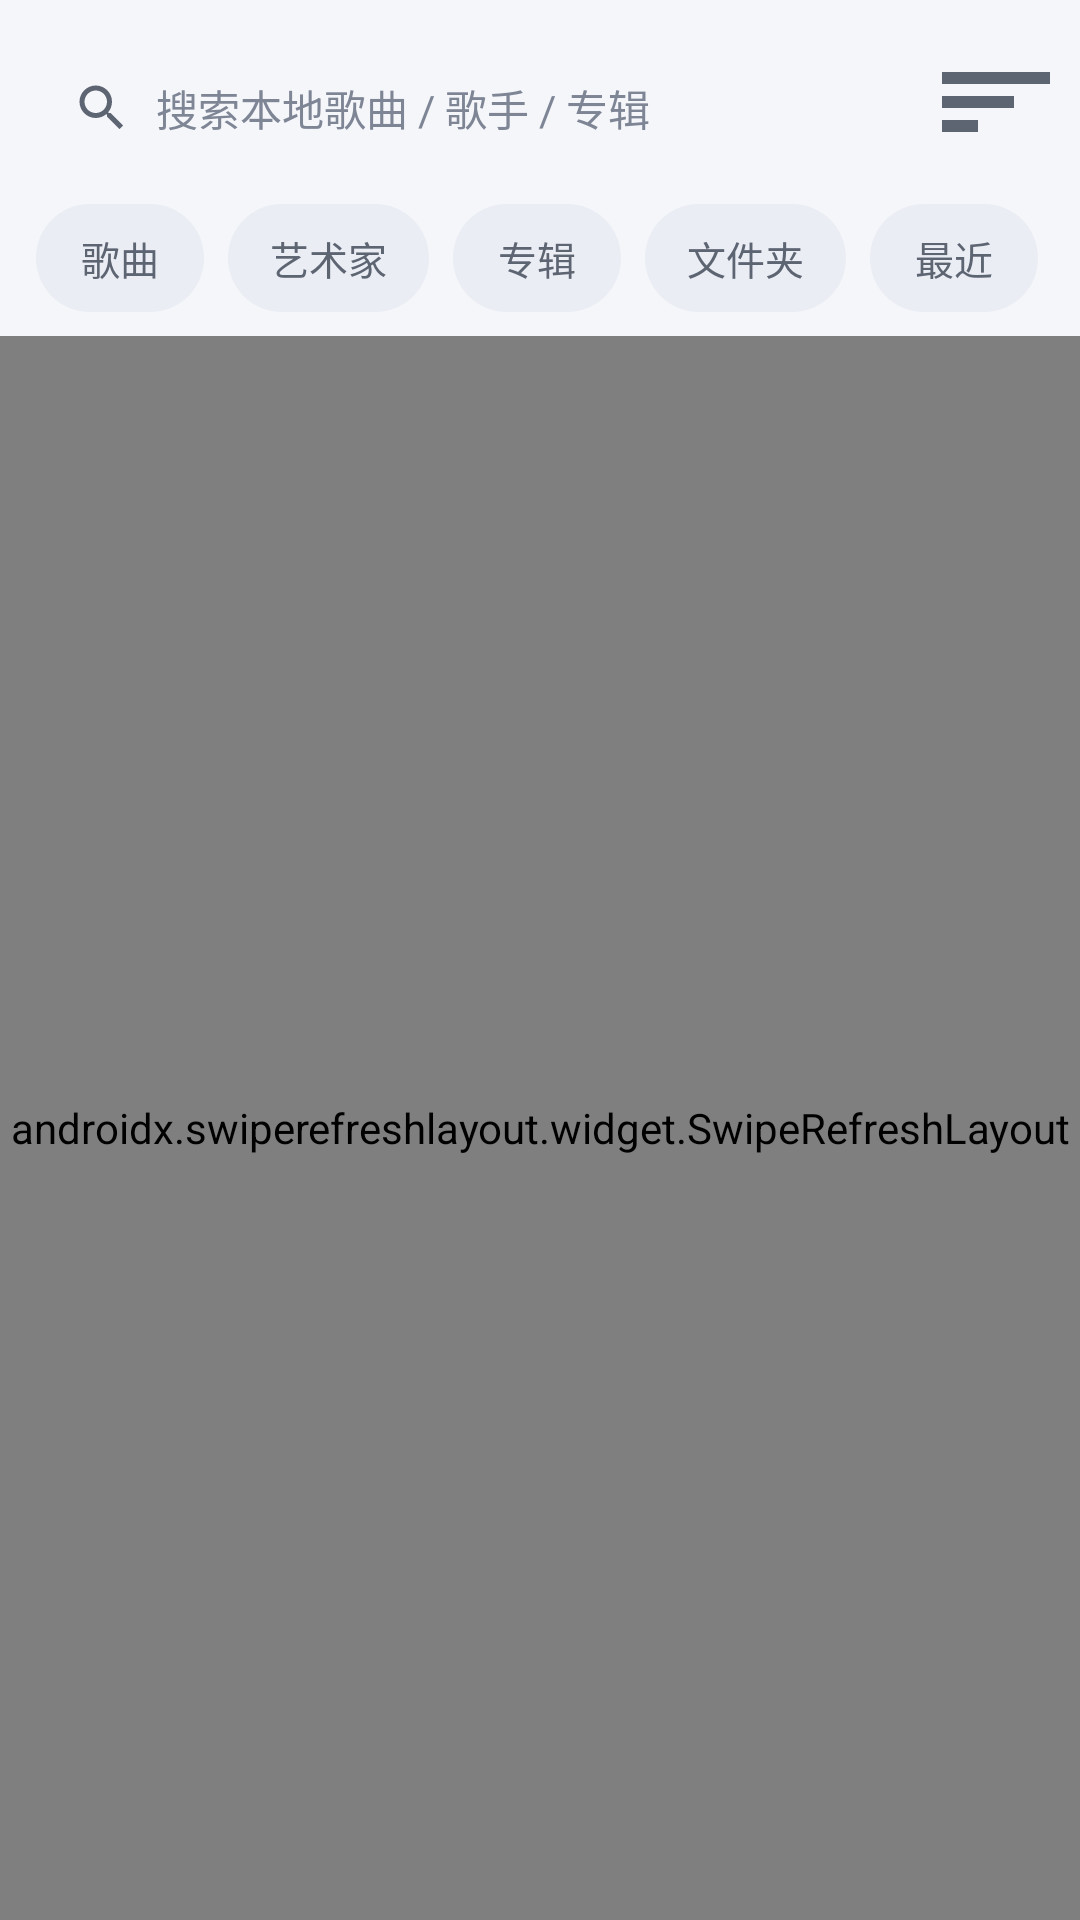

Locate icon controls on the screen. Image size 1080 x 1920, boxes as (x1, y1, x2, y2).
排序方式: (942, 72, 1050, 132)
